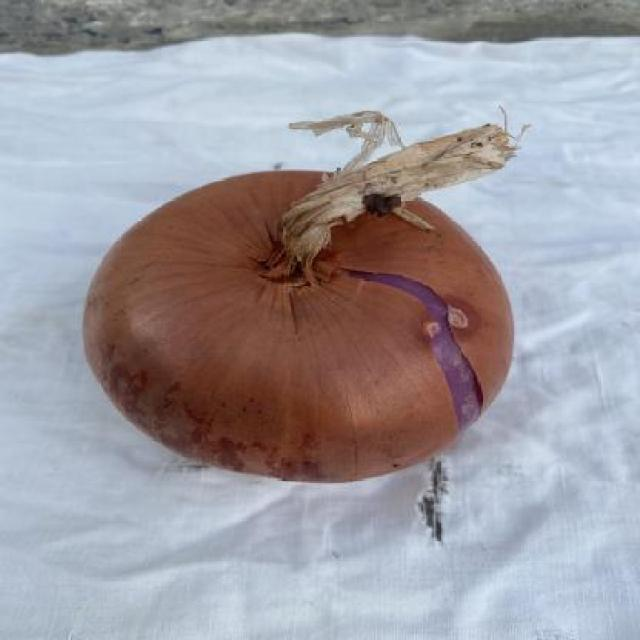Onion: (85, 112, 517, 482)
